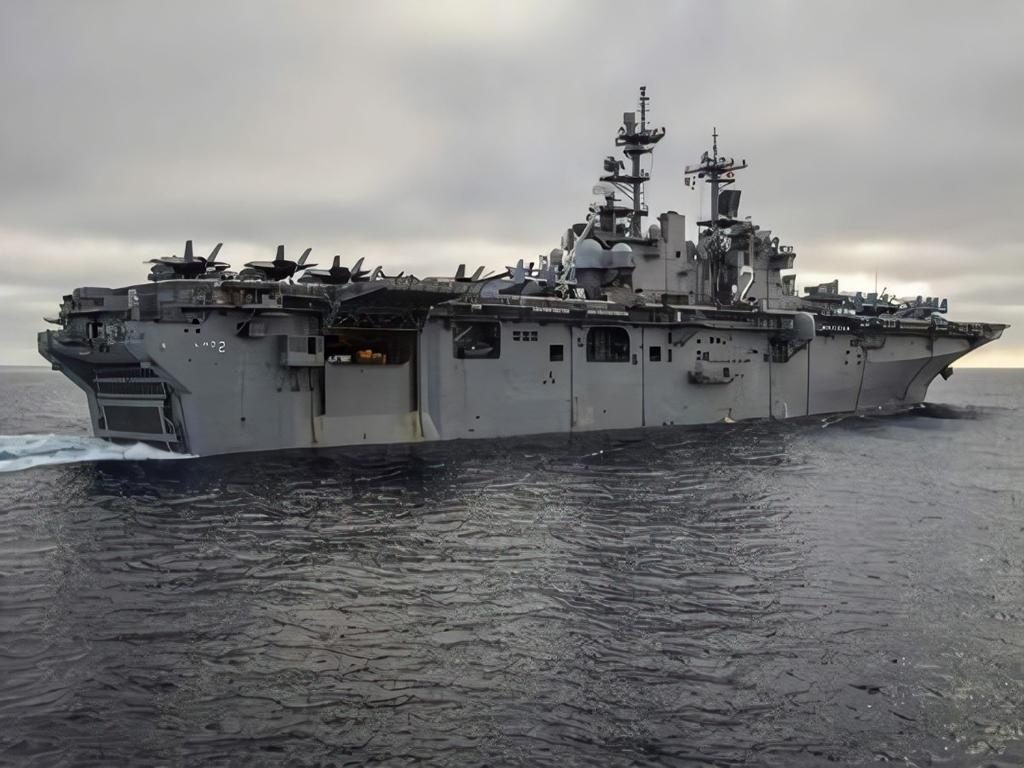Warship: (28, 94, 1010, 463)
